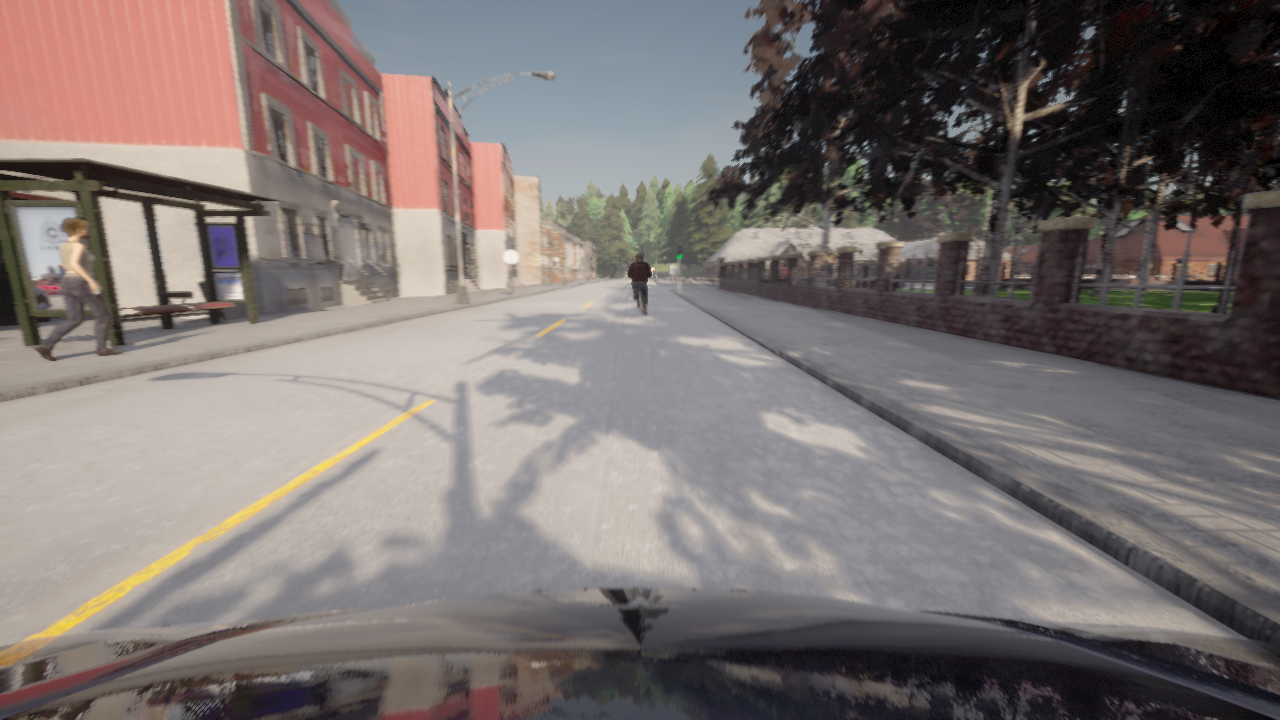cyclist: (0, 588, 1279, 719), (638, 289, 645, 316), (902, 276, 905, 286)
pedestrian: (34, 218, 123, 360)
